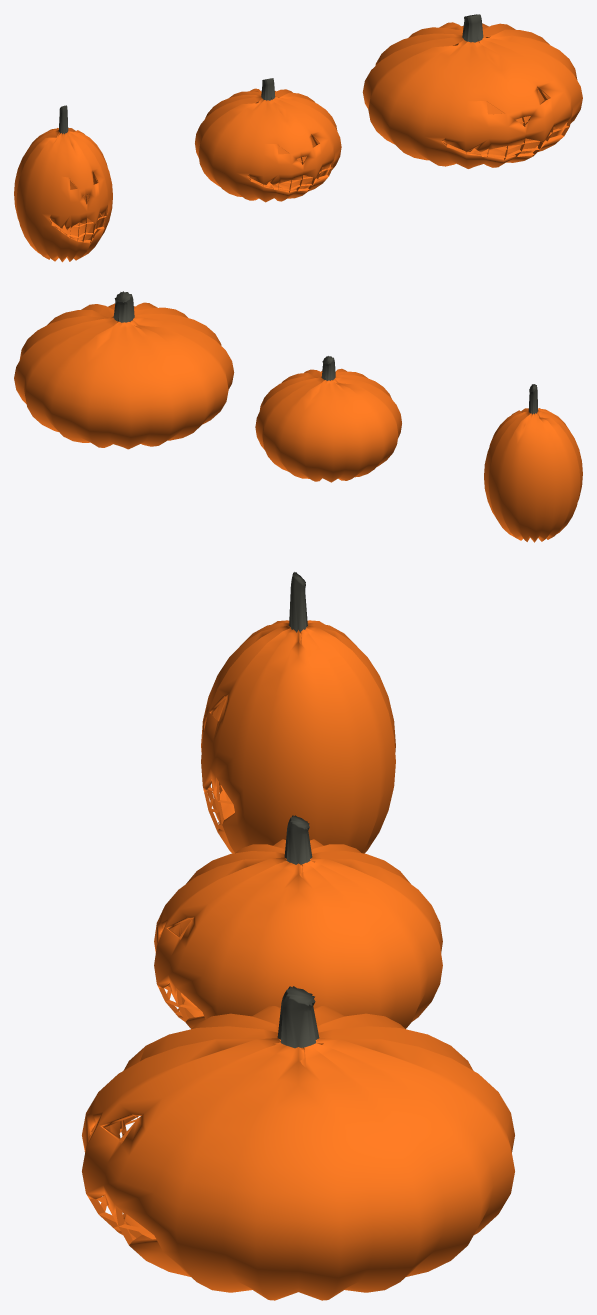
The model's file is JackoLanterns.fbx.
3 views of the same model, one above another, from view 1: azimuth 30°, elevation 25°; view 2: azimuth 150°, elevation 25°; view 3: azimuth 270°, elevation 25° (orthographic). The views are drawn at different scales.
Parts seen in each view (by area): view 1: JackOLantern_Wide, JackOLantern, JackOLantern_Tall; view 2: JackOLantern_Wide, JackOLantern, JackOLantern_Tall; view 3: JackOLantern_Wide, JackOLantern, JackOLantern_Tall.
Boxes of the visible parts, box(x1,y1,x2,y2) form: JackOLantern_Wide: box(362, 14, 582, 168); JackOLantern: box(195, 78, 341, 202); JackOLantern_Tall: box(14, 105, 112, 262); JackOLantern_Wide: box(14, 291, 234, 449); JackOLantern: box(255, 356, 401, 482); JackOLantern_Tall: box(484, 384, 582, 542); JackOLantern_Wide: box(82, 986, 514, 1300); JackOLantern: box(154, 815, 442, 1028); JackOLantern_Tall: box(201, 572, 395, 853).
Size of the model in its own units: 1066 by 280 by 367.
